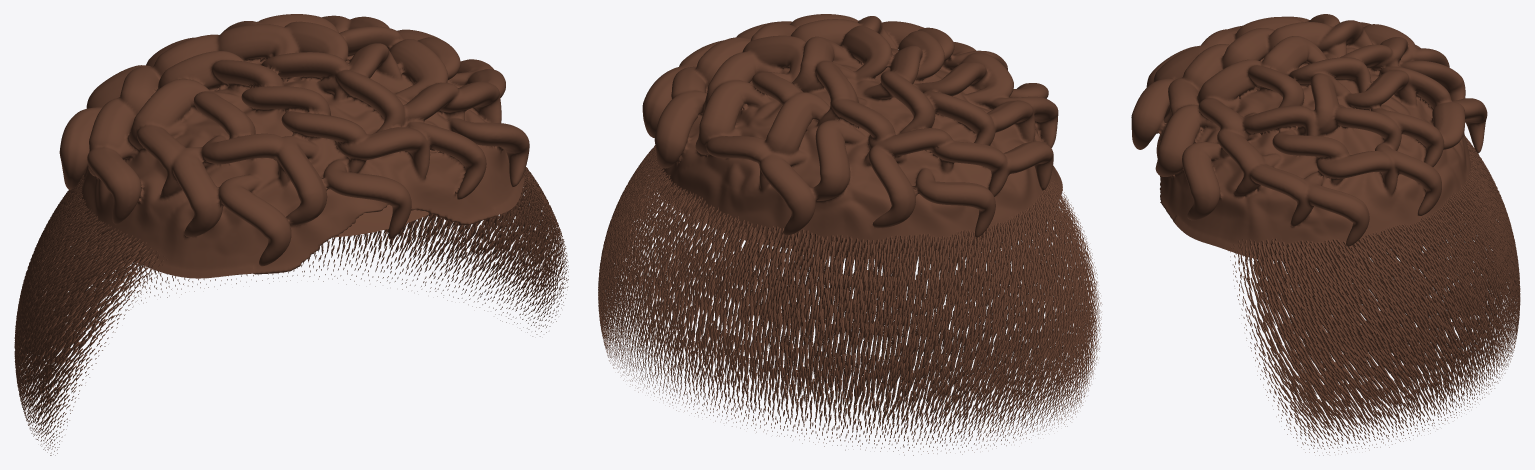
The model's file is Masculine-curly-top-hair254.glb.
3 views of the same model, side by side, from view 1: azimuth 30°, elevation 25°; view 2: azimuth 150°, elevation 25°; view 3: azimuth 270°, elevation 25° (orthographic). The views are drawn at different scales.
Parts seen in each view (by area): view 1: 226 hair / Hair252 / sculpted curl groups, 226 hair / Hair254 / rooted short groom; view 2: 226 hair / Hair254 / rooted short groom, 226 hair / Hair252 / sculpted curl groups; view 3: 226 hair / Hair252 / sculpted curl groups, 226 hair / Hair254 / rooted short groom.
Part boxes in pixels (x1,y1,x2,y2): 226 hair / Hair252 / sculpted curl groups: (59, 14, 529, 278); 226 hair / Hair254 / rooted short groom: (14, 167, 568, 455); 226 hair / Hair254 / rooted short groom: (598, 145, 1102, 455); 226 hair / Hair252 / sculpted curl groups: (642, 14, 1062, 258); 226 hair / Hair252 / sculpted curl groups: (1131, 14, 1487, 260); 226 hair / Hair254 / rooted short groom: (1156, 135, 1520, 455).
Bounding box in the file's own units: 0.9716 × 0.6616 × 0.7501.
